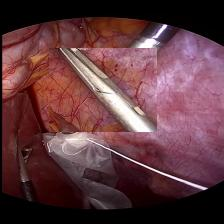Grasper: (48, 48, 156, 132)
Specimen Bag: (41, 132, 132, 210)
